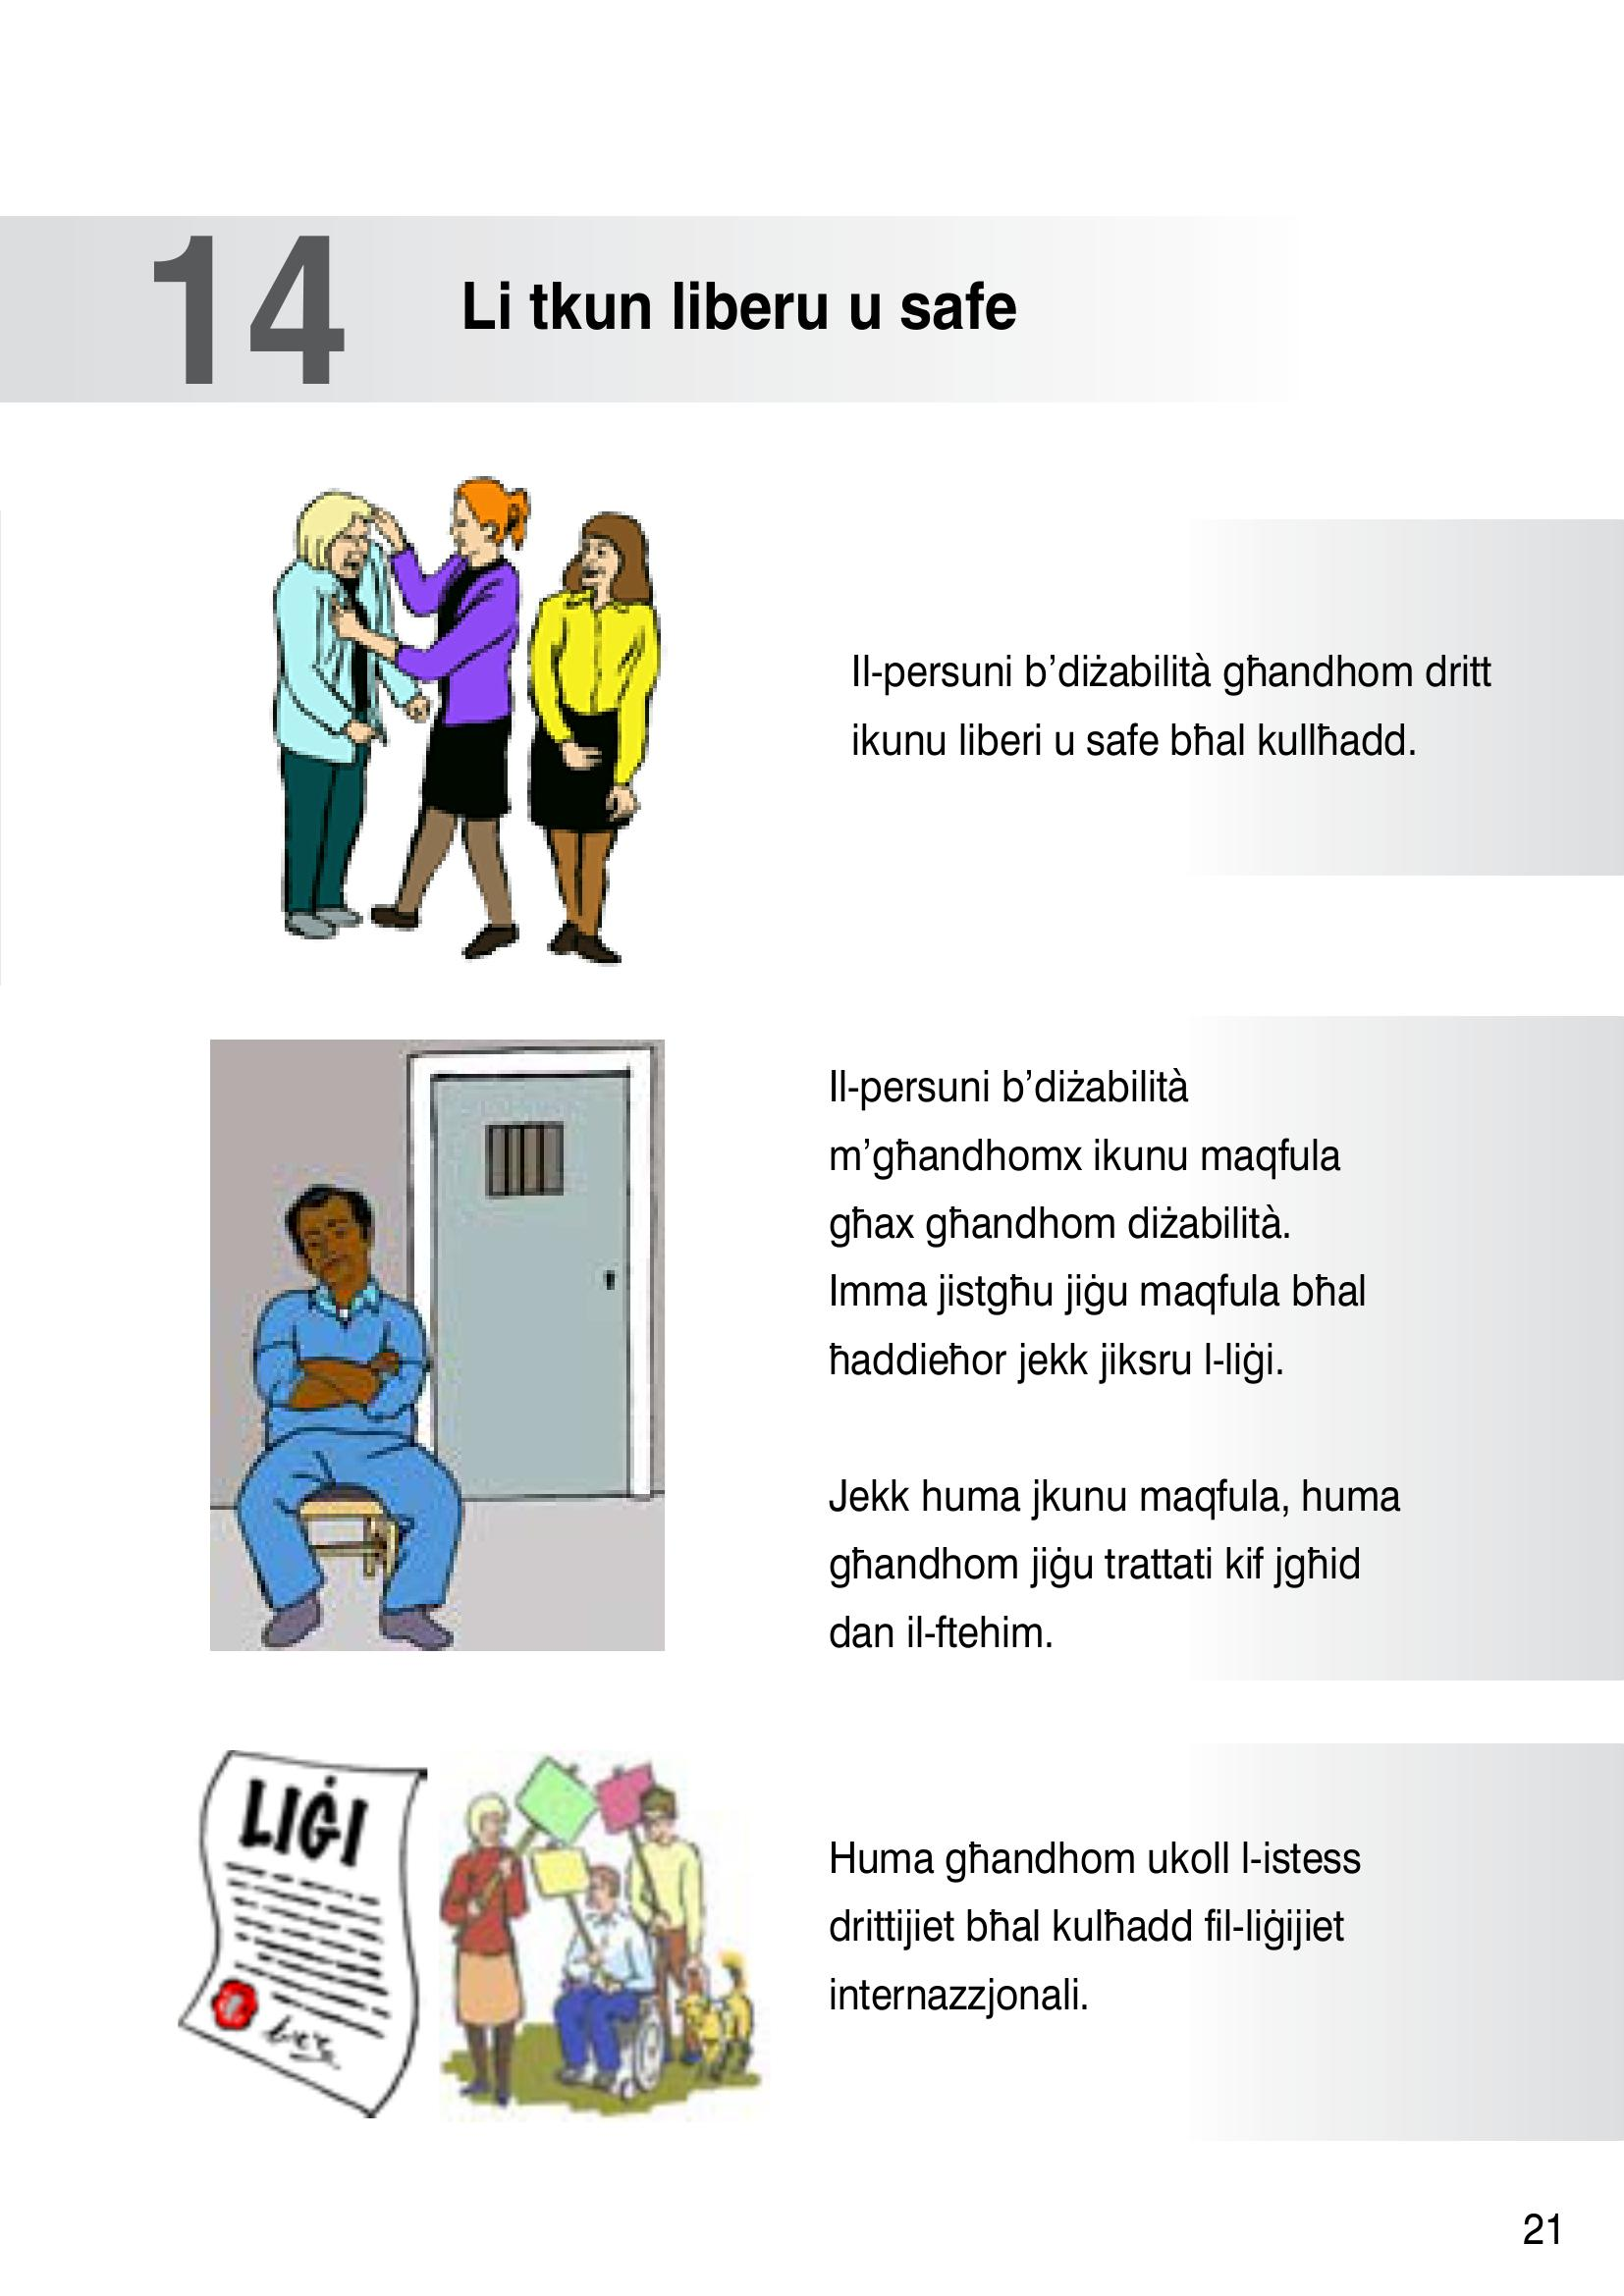text: (810, 557, 1510, 2064), (135, 223, 1028, 408)
